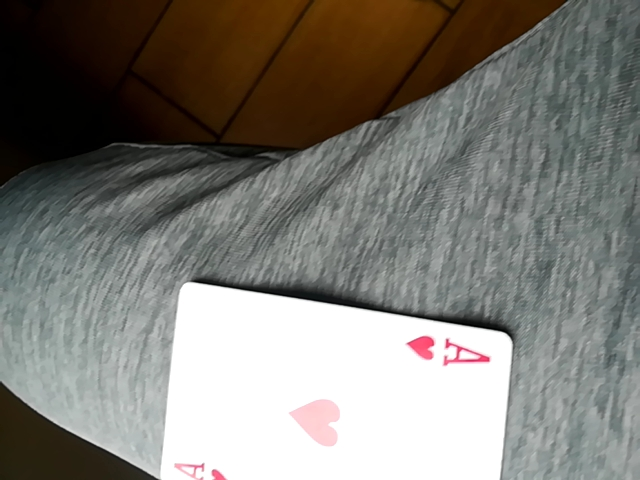hx a: (158, 281, 510, 479)
